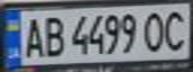4: (66, 11, 90, 56), (87, 11, 106, 55)
9: (118, 10, 142, 54), (103, 10, 124, 55)
A: (18, 13, 48, 60)
B: (39, 12, 69, 57)
C: (160, 7, 193, 53)
O: (139, 8, 172, 53)
